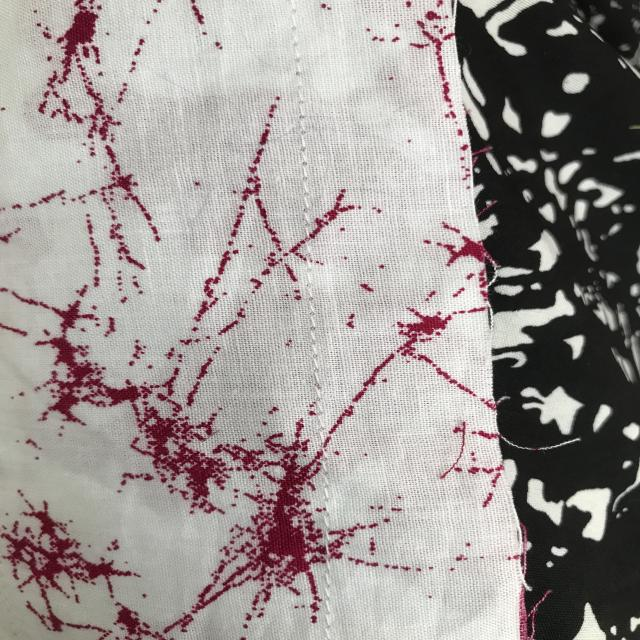good: (297, 310, 329, 383), (286, 145, 320, 212), (312, 474, 348, 526)
